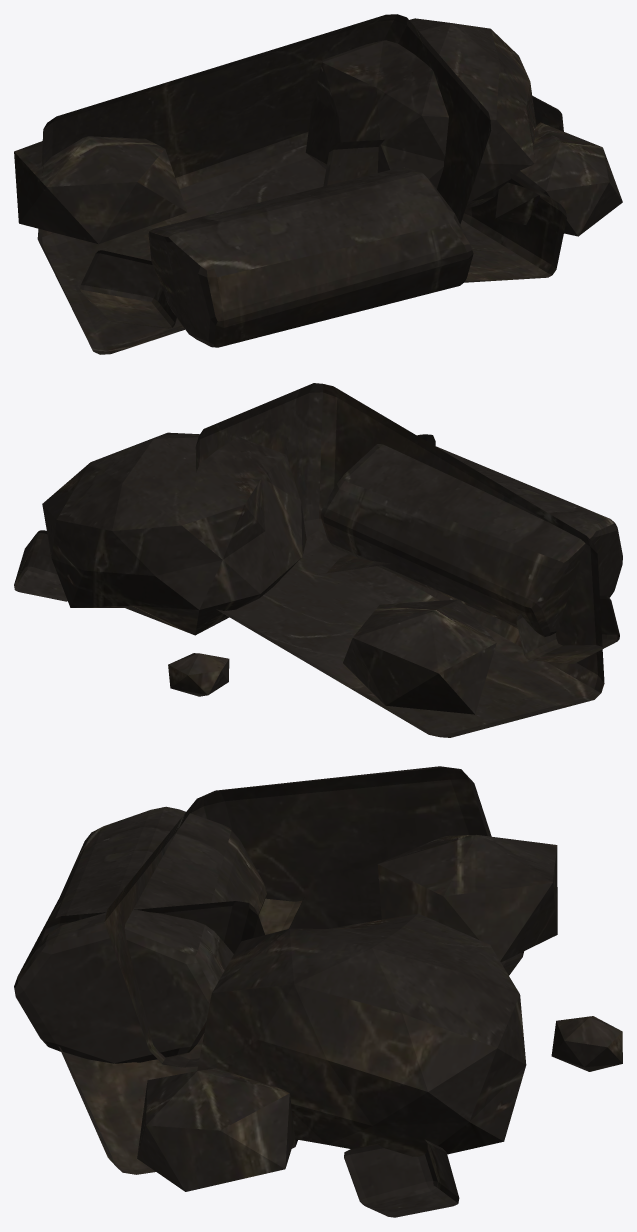
File: ruin_rubble_small.glb
The picture shows the model from 3 angles, top to bottom: view 1: azimuth 30°, elevation 25°; view 2: azimuth 150°, elevation 25°; view 3: azimuth 270°, elevation 25°; orthographic projection. The views are drawn at different scales.
Visible parts, largest first — view 1: ruin_rubble_small; view 2: ruin_rubble_small; view 3: ruin_rubble_small.
Part boxes in pixels (x1,y1,x2,y2): ruin_rubble_small: [14, 14, 622, 354]; ruin_rubble_small: [14, 383, 622, 737]; ruin_rubble_small: [14, 766, 622, 1217].
Size of the model in its own units: 2 by 0.8 by 1.6.
1 material, 1 textured.
